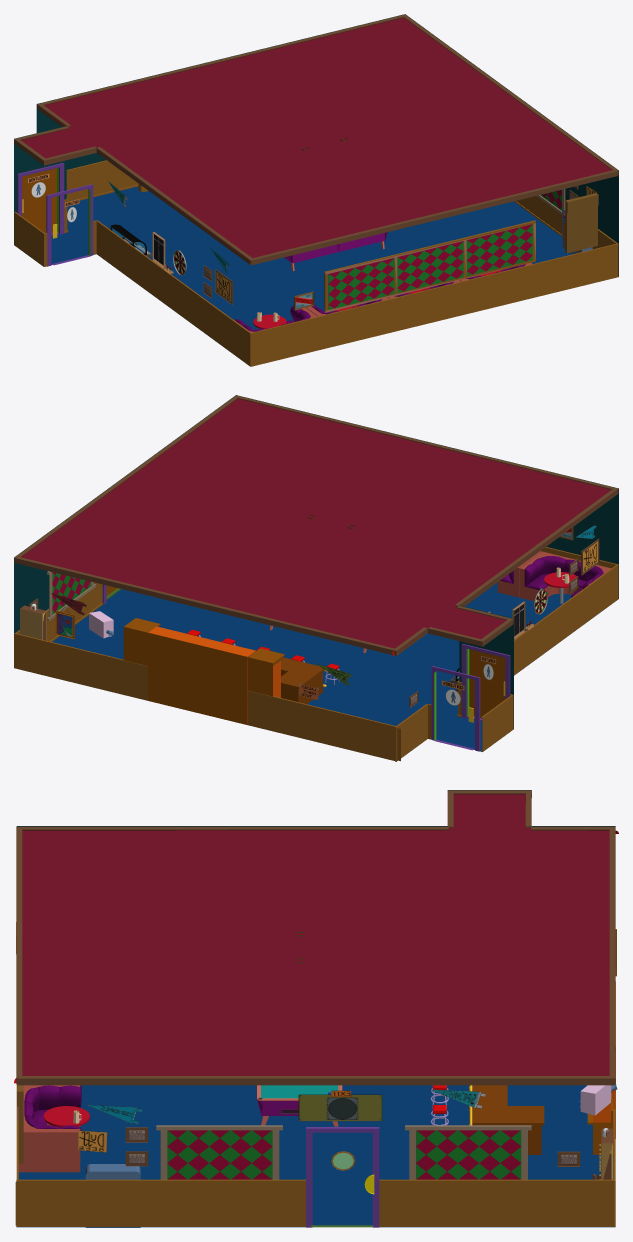
The model's file is moes-tavern-interior-the-simpsons-game.glb.
3 views of the same model, one above another, from view 1: azimuth 30°, elevation 25°; view 2: azimuth 150°, elevation 25°; view 3: azimuth 270°, elevation 25° (orthographic). The views are drawn at different scales.
Visible parts, largest first — view 1: Mesh_2_1_Mesh.040, Mesh_4_2_Mesh.046, Mesh_2_3_Mesh.042, Mesh_4_0.002_Mesh.044, Mesh_2_0.002_Mesh.039, Mesh_3_0.002_Mesh.043; view 2: Mesh_2_1_Mesh.040, Mesh_4_2_Mesh.046, Mesh_2_3_Mesh.042, Mesh_4_0.002_Mesh.044, Mesh_2_0.002_Mesh.039, Mesh_3_0.002_Mesh.043; view 3: Mesh_2_1_Mesh.040, Mesh_2_3_Mesh.042, Mesh_4_2_Mesh.046, Mesh_2_0.002_Mesh.039, Mesh_4_0.002_Mesh.044.
Boxes of the visible parts, x1,y1,x2,y2 form: Mesh_2_1_Mesh.040: [17, 17, 618, 332]; Mesh_4_2_Mesh.046: [14, 14, 618, 366]; Mesh_2_3_Mesh.042: [25, 186, 571, 364]; Mesh_4_0.002_Mesh.044: [14, 14, 618, 276]; Mesh_2_0.002_Mesh.039: [108, 181, 596, 308]; Mesh_3_0.002_Mesh.043: [27, 173, 79, 222]; Mesh_2_1_Mesh.040: [15, 398, 618, 761]; Mesh_4_2_Mesh.046: [14, 395, 618, 761]; Mesh_2_3_Mesh.042: [52, 582, 615, 754]; Mesh_4_0.002_Mesh.044: [14, 395, 618, 750]; Mesh_2_0.002_Mesh.039: [20, 525, 598, 704]; Mesh_3_0.002_Mesh.043: [442, 655, 496, 705]; Mesh_2_1_Mesh.040: [15, 792, 618, 1227]; Mesh_2_3_Mesh.042: [17, 1085, 613, 1227]; Mesh_4_2_Mesh.046: [14, 790, 616, 1227]; Mesh_2_0.002_Mesh.039: [78, 1089, 612, 1179]; Mesh_4_0.002_Mesh.044: [16, 790, 615, 1227].
Size of the model in its own units: 18.72 by 4.54 by 16.5.
18 materials, 18 textured.
